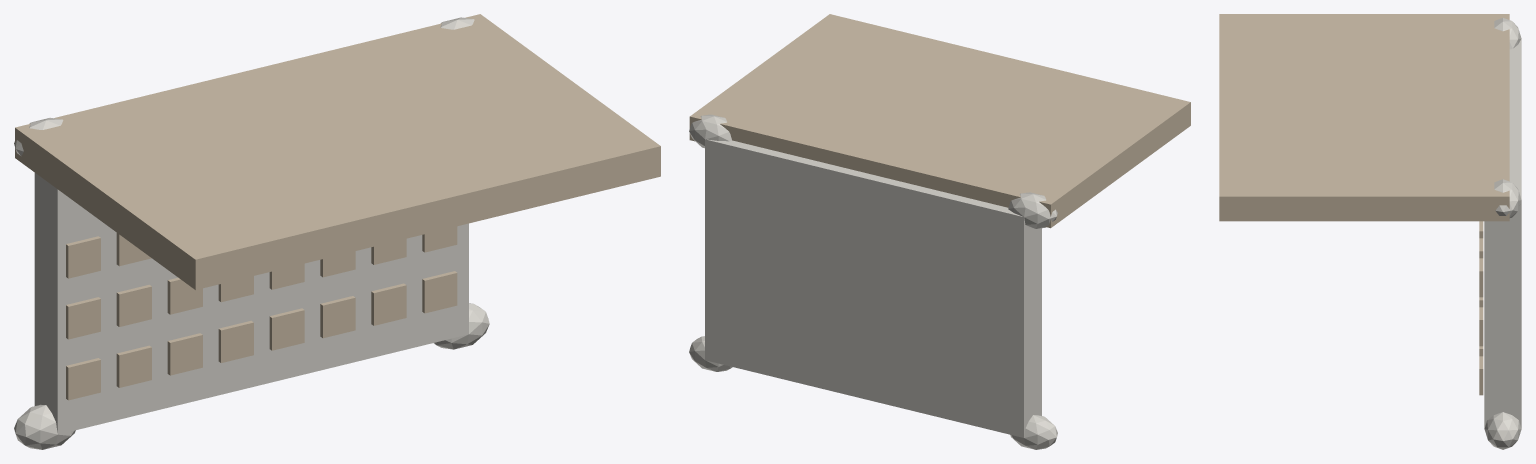
The model's file is laptop.glb.
3 renders of one model, left to right at view 1: azimuth 30°, elevation 25°; view 2: azimuth 150°, elevation 25°; view 3: azimuth 270°, elevation 25°, orthographic. The views are drawn at different scales.
Parts seen in each view (by area): view 1: screen_back, keyboard_base_core, keyboard_base_corner_-1_-1, key_0_2, key_0_3, key_0_6, key_0_7, key_1_1, key_0_4, key_0_5, key_0_1, key_1_0 (+10 smaller); view 2: keyboard_base_core, screen_back, keyboard_base_corner_-1_1, keyboard_base_corner_-1_-1, keyboard_base_corner_1_1, keyboard_base_corner_1_-1; view 3: screen_back, keyboard_base_core, keyboard_base_corner_1_-1, keyboard_base_corner_1_1, keyboard_base_corner_-1_1.
Part boxes in pixels (x1,y1,x2,y2): screen_back: (15, 14, 660, 289); keyboard_base_core: (34, 173, 468, 434); keyboard_base_corner_-1_-1: (14, 404, 75, 449); key_0_2: (167, 333, 202, 375); key_0_3: (218, 320, 253, 362); key_0_6: (371, 283, 406, 325); key_0_7: (422, 271, 457, 313); key_1_1: (116, 284, 151, 326); key_0_4: (269, 308, 304, 350); key_0_5: (320, 296, 355, 338); key_0_1: (116, 345, 151, 387); key_1_0: (66, 297, 100, 339); keyboard_base_core: (705, 139, 1041, 437); screen_back: (689, 14, 1190, 228); keyboard_base_corner_-1_1: (1008, 192, 1057, 228); keyboard_base_corner_-1_-1: (1010, 415, 1057, 449); keyboard_base_corner_1_1: (689, 114, 731, 148); keyboard_base_corner_1_-1: (689, 336, 732, 371); screen_back: (1219, 14, 1509, 221); keyboard_base_core: (1484, 39, 1521, 428); keyboard_base_corner_1_-1: (1484, 412, 1521, 449); keyboard_base_corner_1_1: (1494, 179, 1521, 218); keyboard_base_corner_-1_1: (1494, 18, 1521, 49).
Bounding box in the file's own units: 0.65 × 0.43 × 0.4475.
